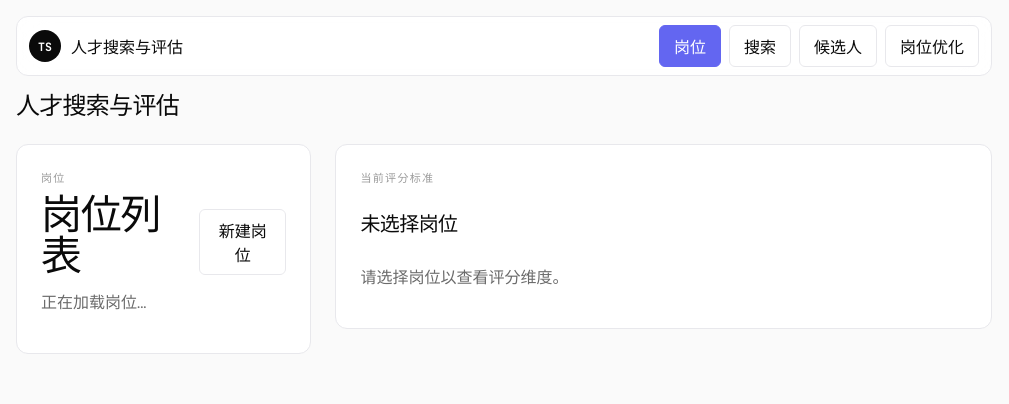
Test: opens refinements and ignores late job loads after unmount
Step 1. Click the button "岗位优化" → coordinates (932, 46), box [885,25,979,67]
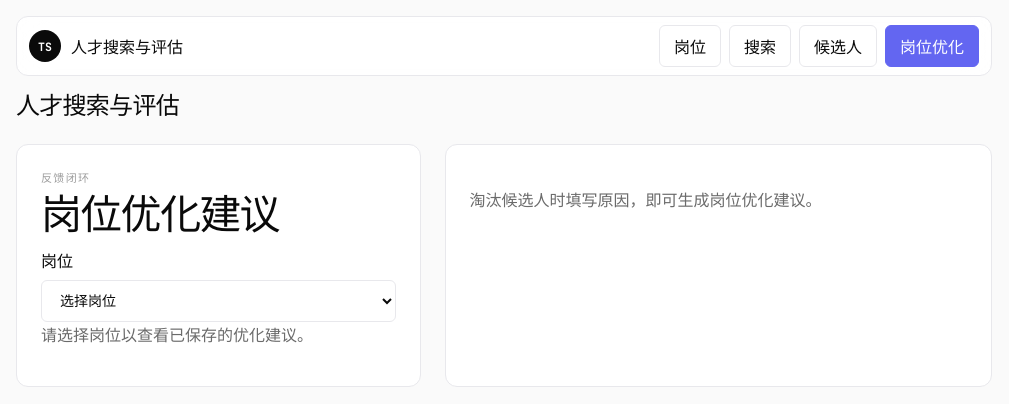
Expected: the heading "岗位优化建议" is shown, [41,188,279,242]
